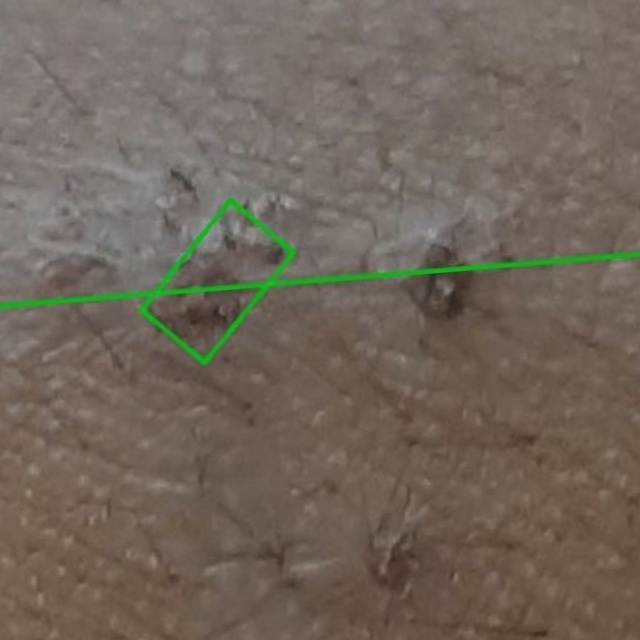Atopic Dermatitis: (0, 0, 639, 305), (140, 201, 293, 363)
